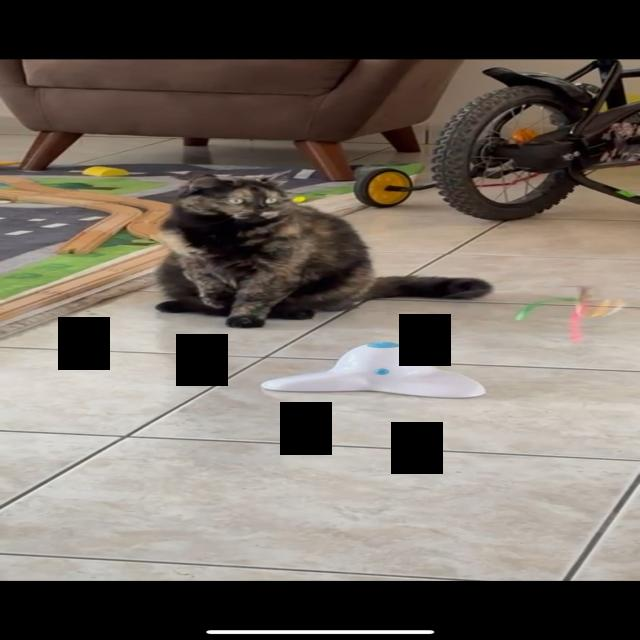authorized: (152, 168, 493, 328)
